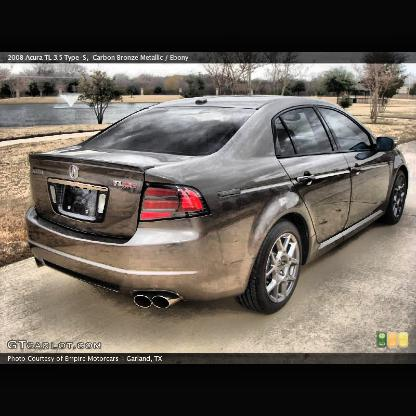Acura TL Type-S 2008: (24, 94, 414, 316)
